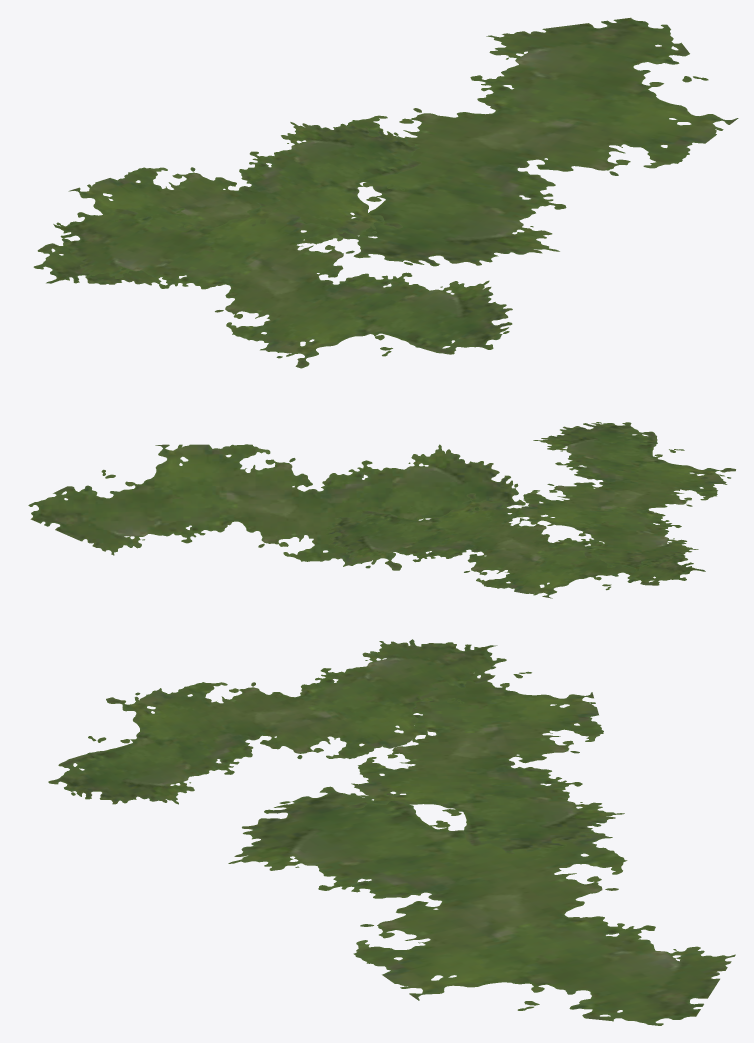
Rendered from dibiao_09.FBX.
3 views of the same model, one above another, from view 1: azimuth 30°, elevation 25°; view 2: azimuth 150°, elevation 25°; view 3: azimuth 270°, elevation 25° (orthographic). The views are drawn at different scales.
Parts seen in each view (by area): view 1: dibiao_09; view 2: dibiao_09; view 3: dibiao_09.
Part boxes in pixels (x1=…): dibiao_09: x1=33, y1=17, x2=738, y2=368; dibiao_09: x1=28, y1=422, x2=735, y2=598; dibiao_09: x1=48, y1=639, x2=735, y2=1025.
Size of the model in its own units: 45517 by 1802 by 35680.
